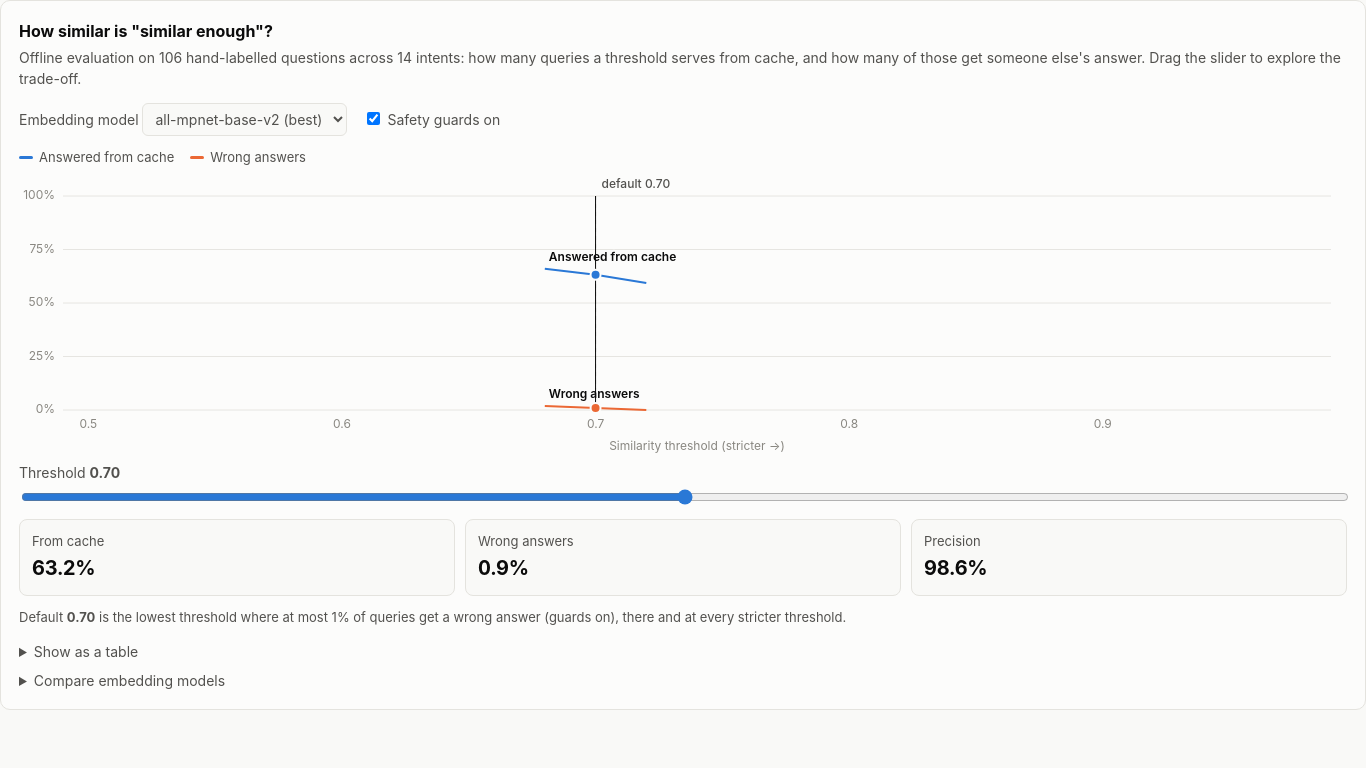
Test: ThresholdExplorer › switches model and jumps to that model's default
Select "all-MiniLM-L6-v2" in the dropdown at (245, 120), box [142,103,348,136]
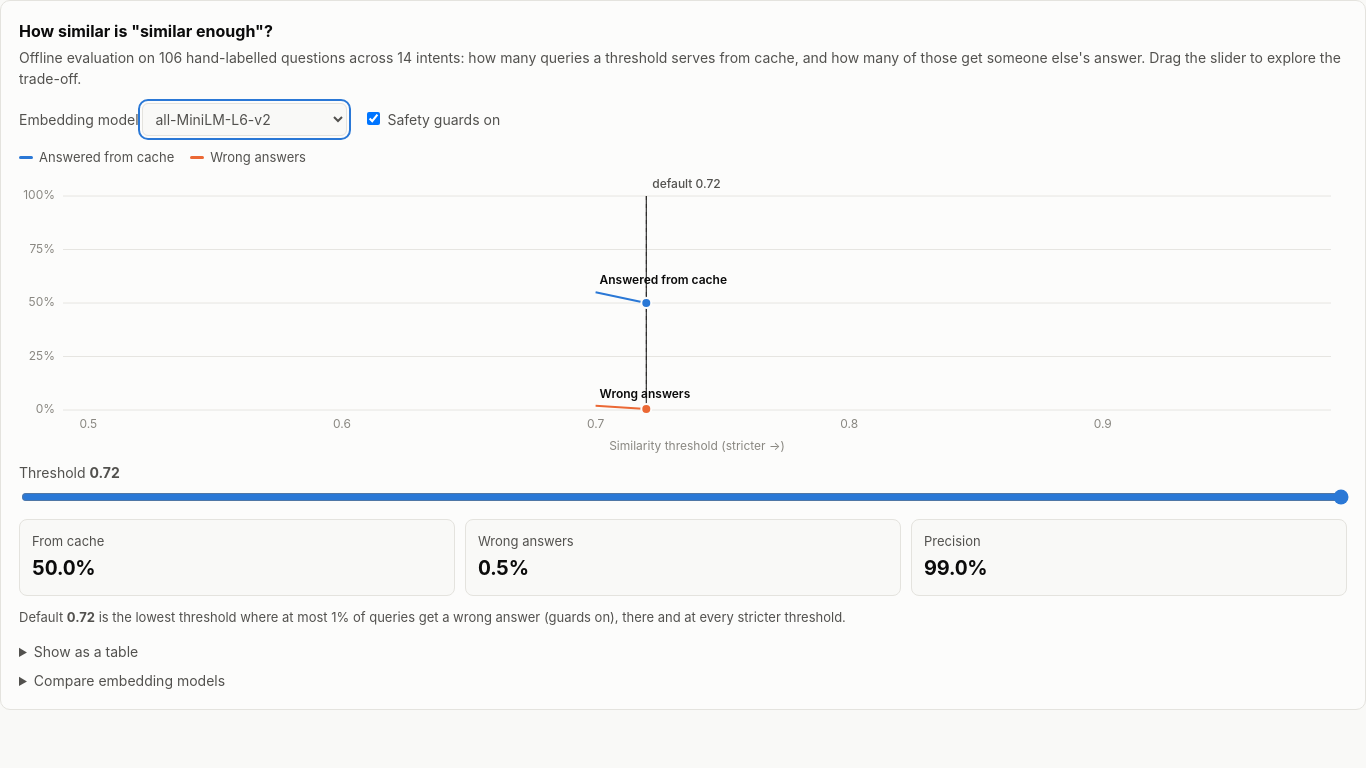
Expected: the slider holds "0.72", [21,488,1349,504]
Expected: the text "50.0%" is shown, [32,556,96,580]
